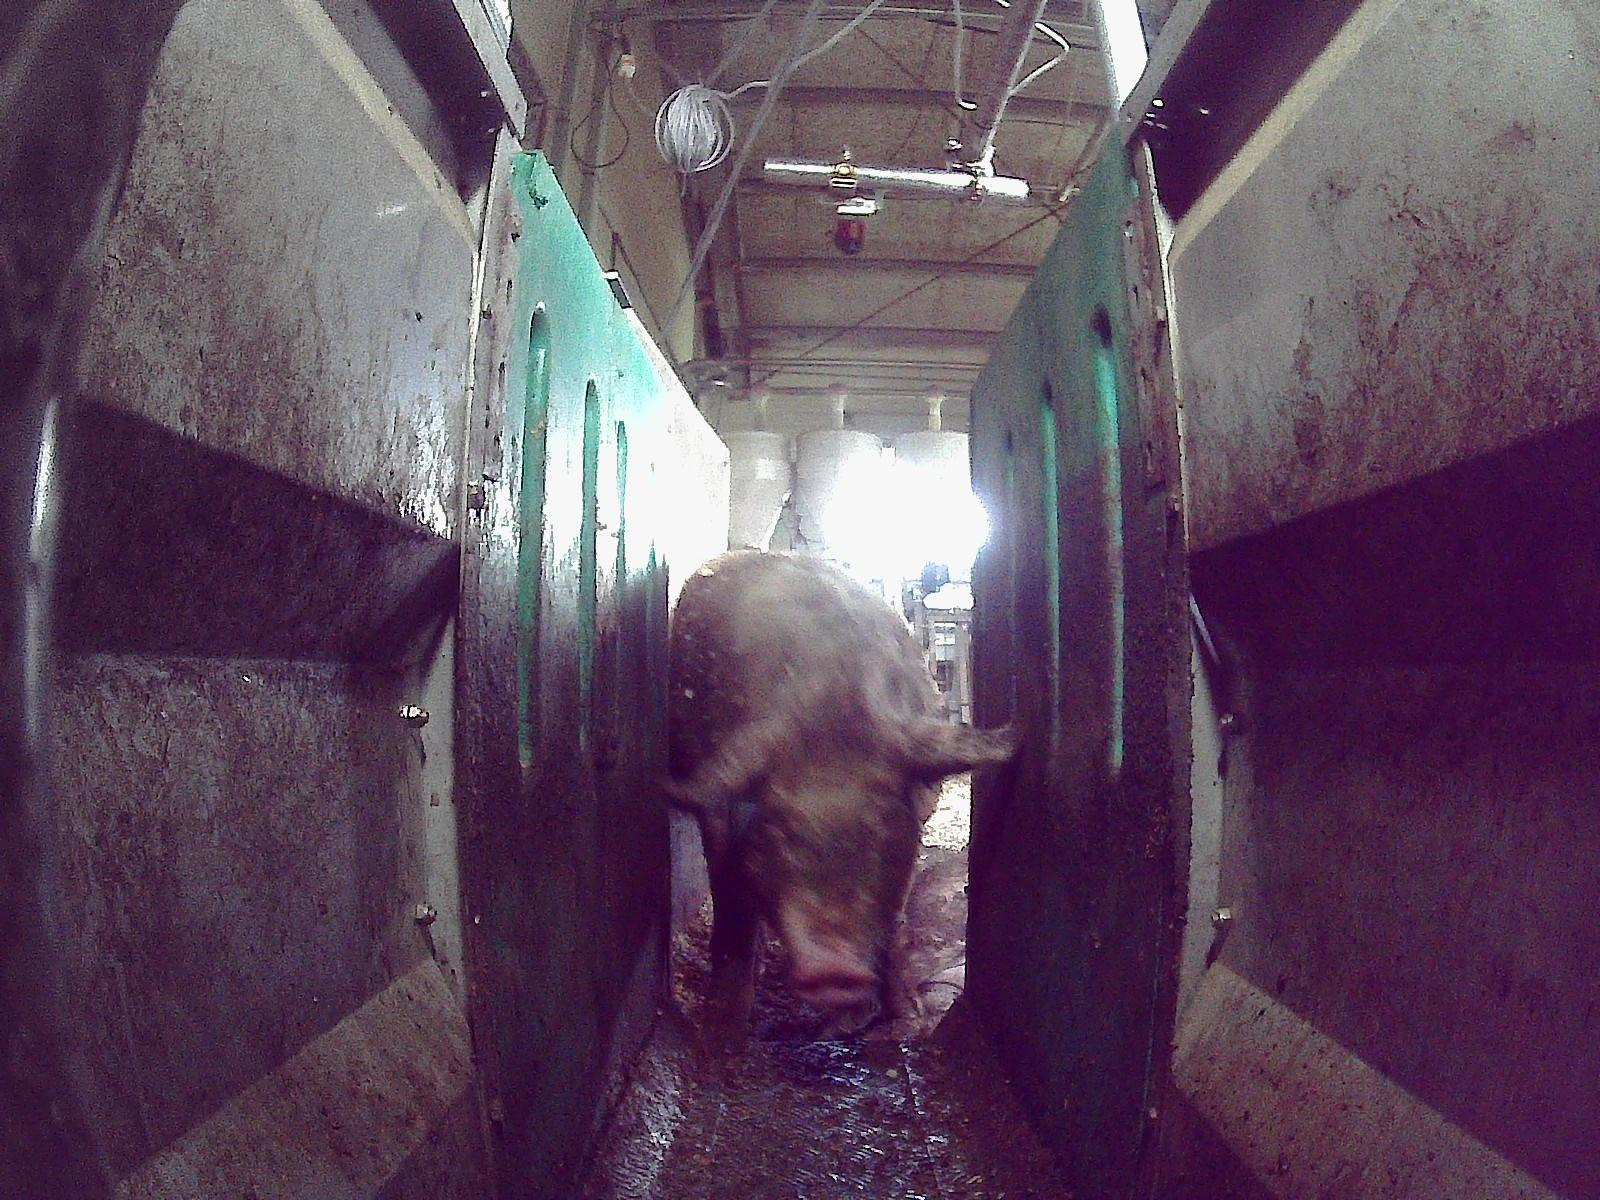Face: (734, 712, 928, 1003)
